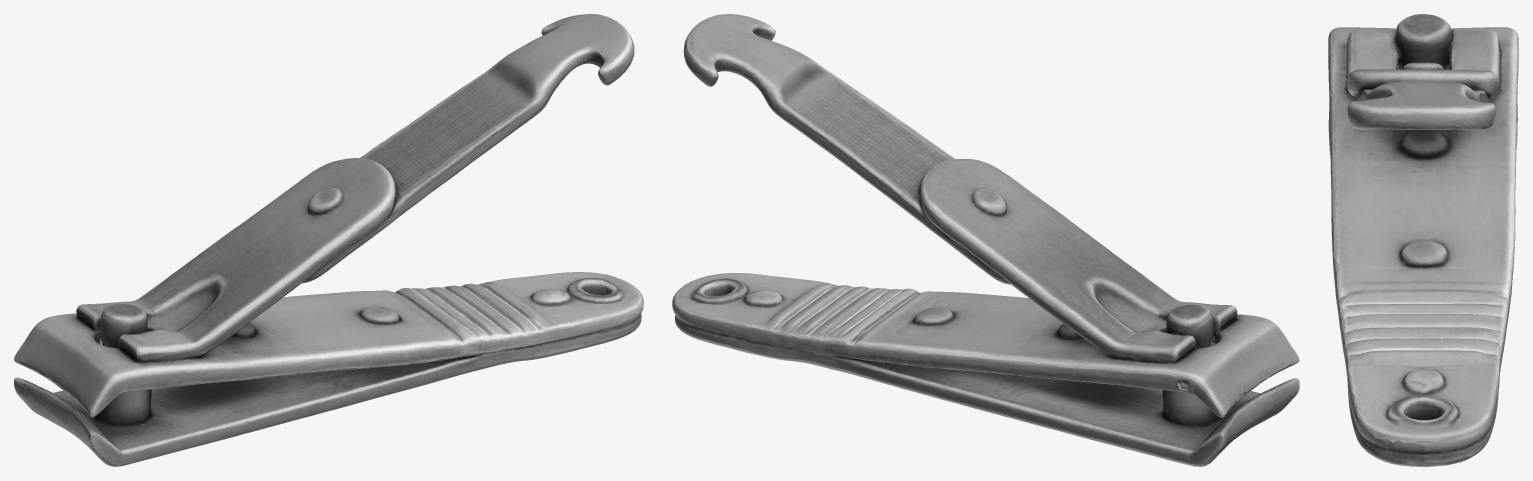
Rendered from parts.glb.
The picture shows the model from 3 angles, left to right: view 1: azimuth 30°, elevation 25°; view 2: azimuth 150°, elevation 25°; view 3: azimuth 270°, elevation 25°; orthographic projection. The views are drawn at different scales.
Size of the model in its own units: 0.11 by 0.0534 by 0.0261.
5 materials, 5 textured.
